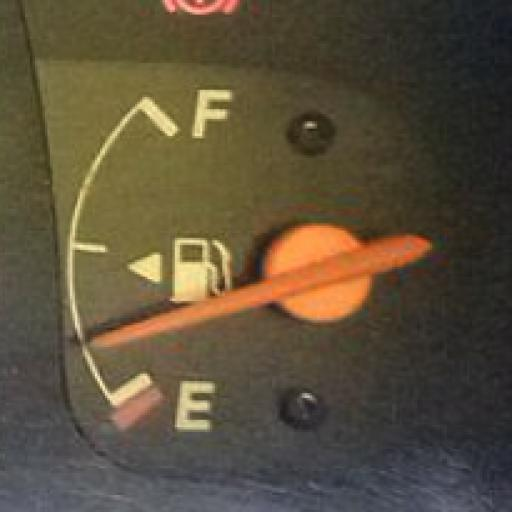empty: (174, 381, 220, 433)
fuel_icon: (166, 231, 232, 301)
full: (190, 81, 233, 139)
guage_area: (55, 38, 439, 469)
needle_center: (246, 215, 405, 334)
needle_tip: (85, 310, 153, 356)
